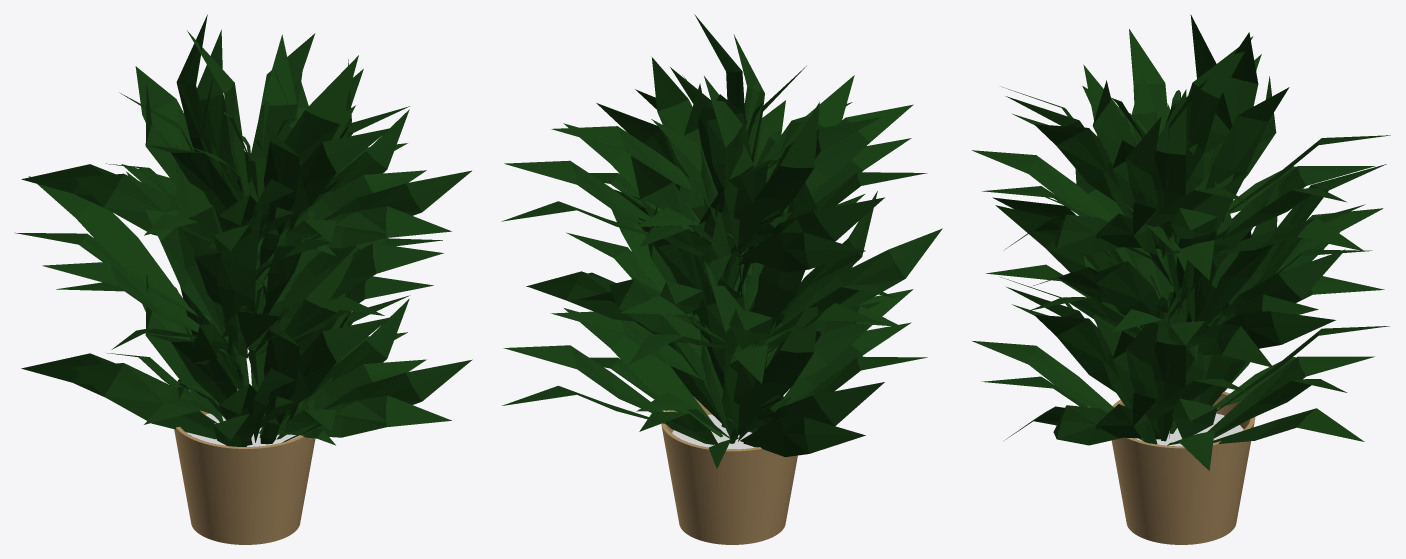
The model's file is plantFix.FBX.
3 views of the same model, side by side, from view 1: azimuth 30°, elevation 25°; view 2: azimuth 150°, elevation 25°; view 3: azimuth 270°, elevation 25° (orthographic). The views are drawn at different scales.
Parts seen in each view (by area): view 1: leaves, leaves2, leaves3, plant; view 2: leaves, leaves2, leaves3, plant, ground; view 3: leaves, leaves3, leaves2, plant, ground.
Part boxes in pixels (x1,y1,x2,y2): leaves: (21, 14, 471, 265); leaves2: (21, 244, 472, 446); leaves3: (14, 144, 443, 364); plant: (174, 388, 315, 544); leaves: (501, 14, 927, 284); leaves2: (502, 260, 927, 468); leaves3: (526, 156, 942, 383); plant: (661, 396, 797, 544); ground: (672, 414, 756, 449); leaves: (972, 14, 1390, 280); leaves3: (985, 95, 1386, 367); leaves2: (972, 227, 1389, 470); plant: (1111, 391, 1255, 544); ground: (1134, 413, 1243, 446).
Bounding box in the file's own units: 109 × 140 × 109.
